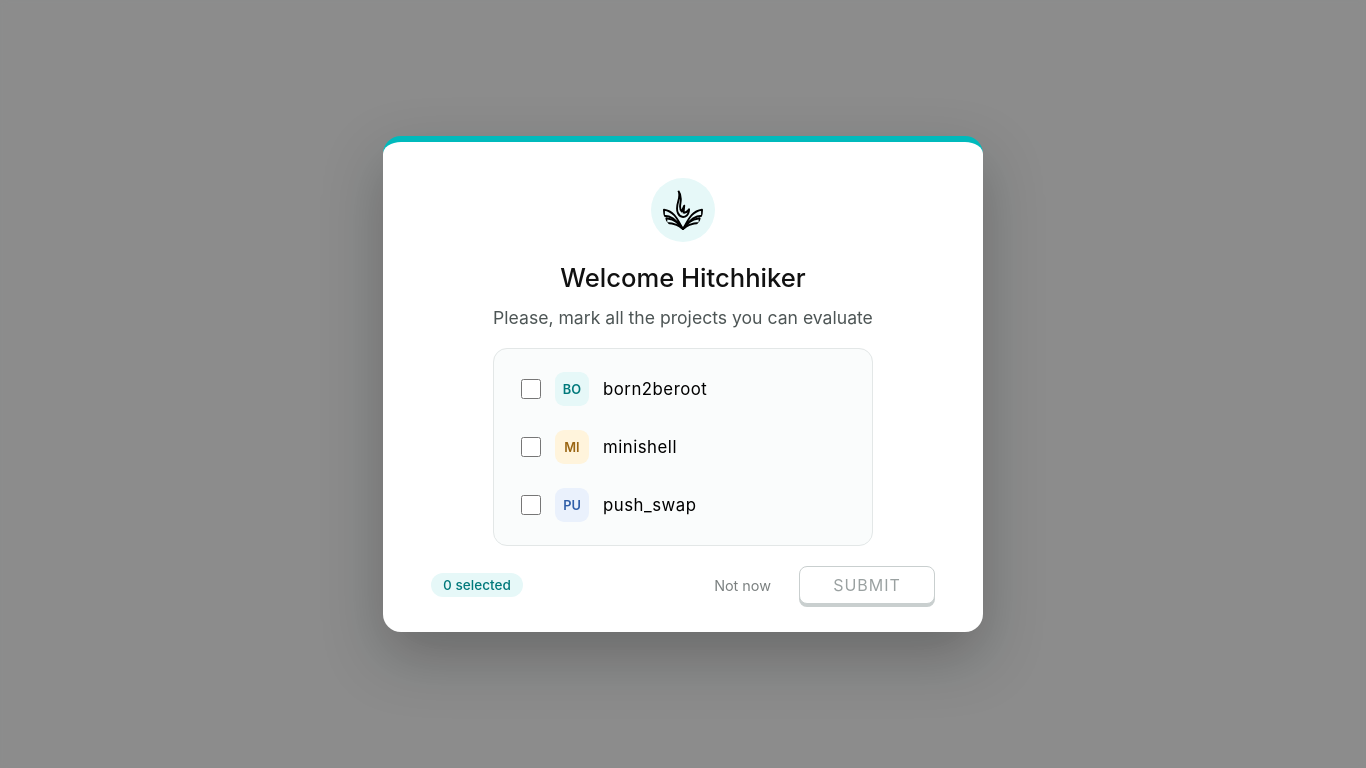
WelcomeHitchhikerDialog › asks to mark the projects, with Submit disabled until one is marked
Expected: the dialog "Welcome Hitchhiker" is shown, [383,136,983,632]
Expected: the text "Please, mark all the projects you can evaluate" is shown, [493,307,873,328]
Click the checkbox labelled "push_swap". click: (531, 505)
box: [521,495,541,515]
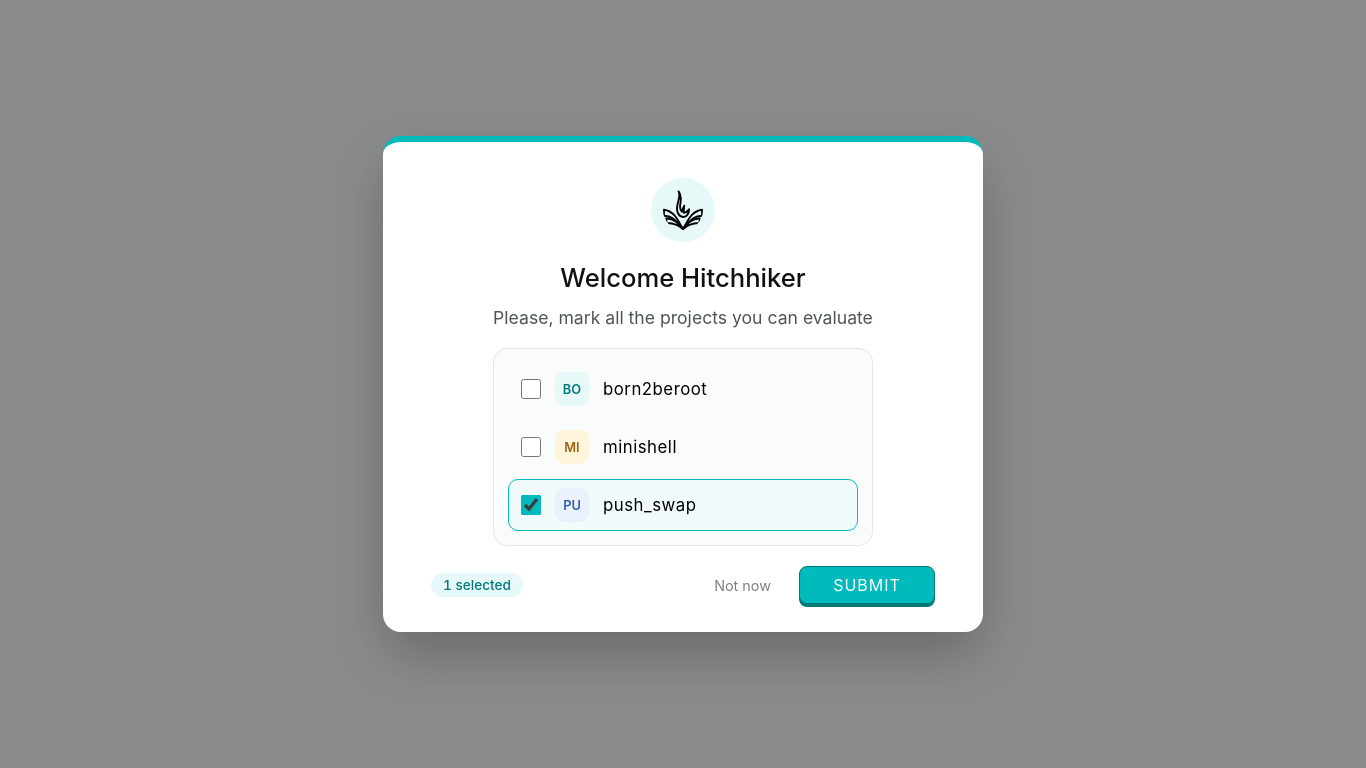
Result: the button "Submit" is enabled at [799,566,935,604]
